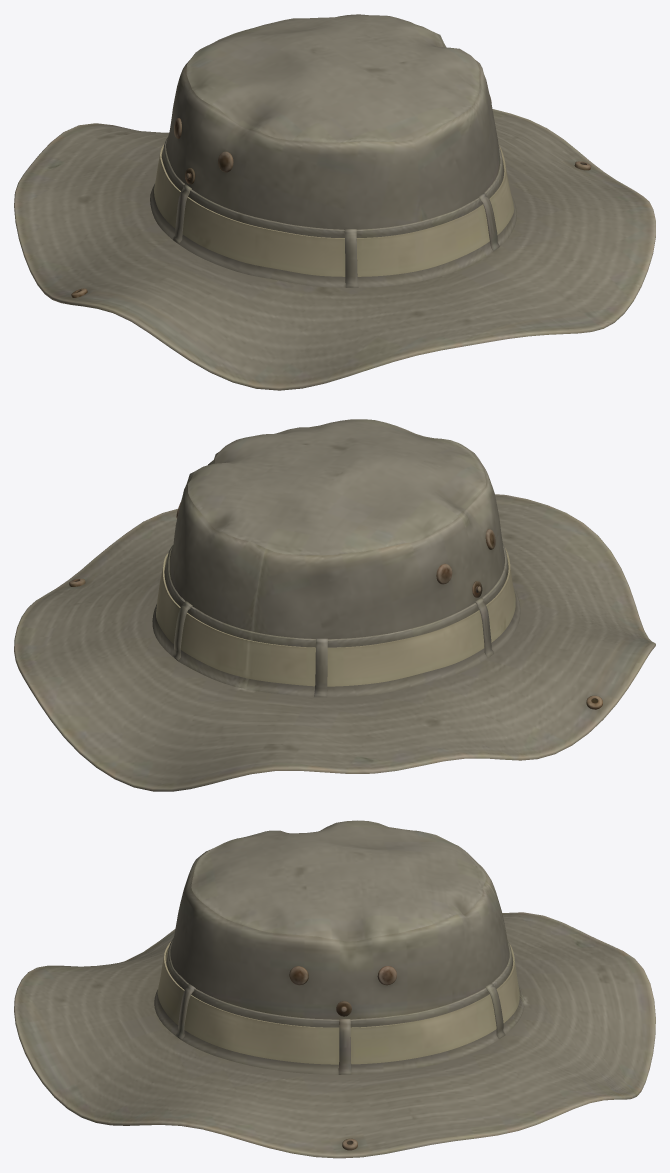
Rendered from fishermans_hat.glb.
3 renders of one model, top to bottom at view 1: azimuth 30°, elevation 25°; view 2: azimuth 150°, elevation 25°; view 3: azimuth 270°, elevation 25°, orthographic. The views are drawn at different scales.
Parts seen in each view (by area): view 1: fishermans_hat; view 2: fishermans_hat; view 3: fishermans_hat.
Boxes of the visible parts, x1,y1,x2,y2 form: fishermans_hat: (14,14,655,390); fishermans_hat: (14,419,655,791); fishermans_hat: (14,820,655,1158).
Size of the model in its own units: 0.3236 by 0.1239 by 0.35.
1 material, 1 textured.
